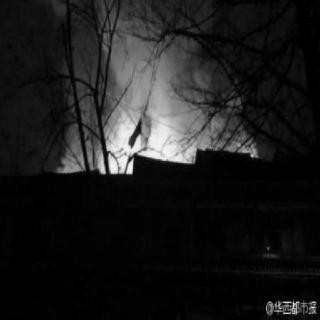Fire: (98, 105, 192, 188)
